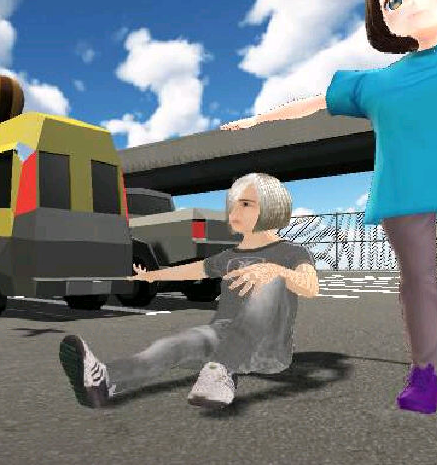doubleP_left: (53, 1, 437, 415)
